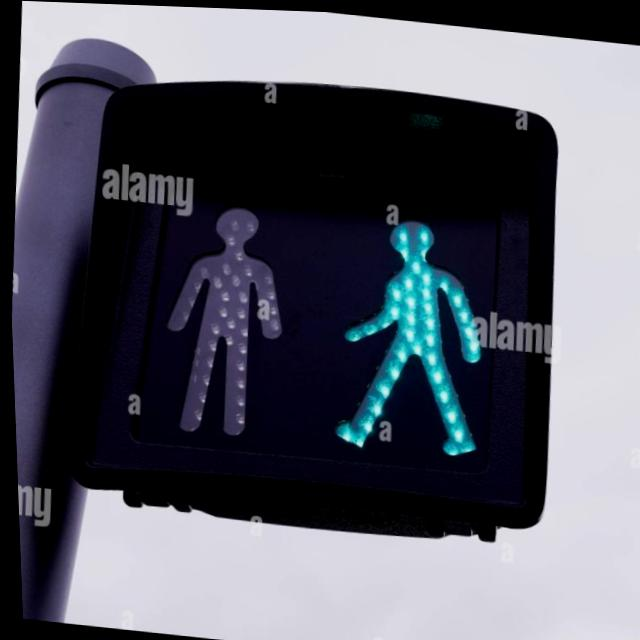green_light: (339, 199, 475, 435)
